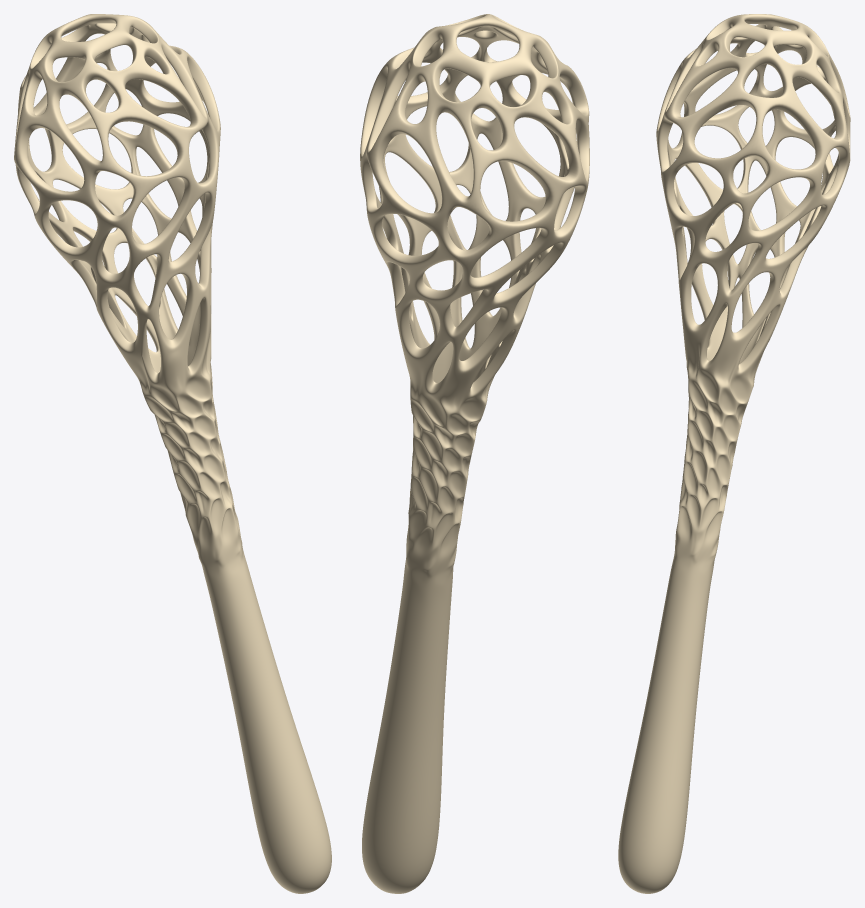
File: Honey Drizzler Gold.glb
3 renders of one model, left to right at view 1: azimuth 30°, elevation 25°; view 2: azimuth 150°, elevation 25°; view 3: azimuth 270°, elevation 25°, orthographic. The views are drawn at different scales.
Visible parts, largest first — view 1: Mesh_0; view 2: Mesh_0; view 3: Mesh_0.
Boxes of the visible parts, x1,y1,x2,y2 form: Mesh_0: (14, 14, 331, 893); Mesh_0: (360, 14, 589, 893); Mesh_0: (618, 14, 850, 893).
Size of the model in its own units: 0.4182 by 1.35 by 0.3533.
